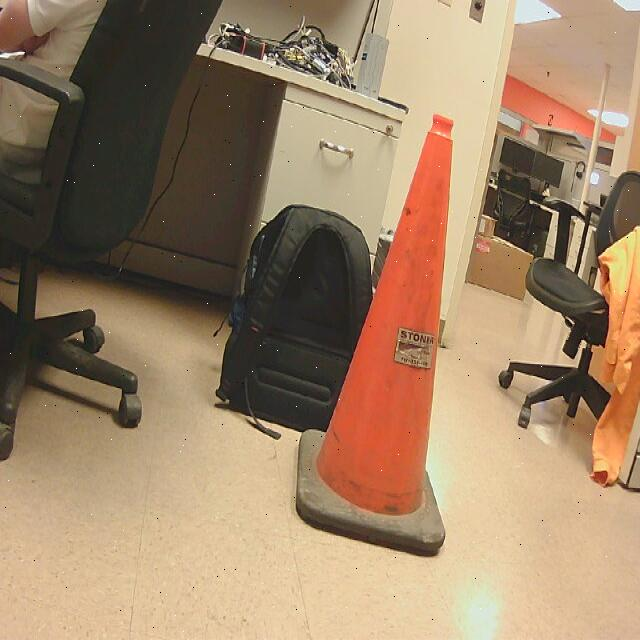traffic cone: (296, 114, 455, 561)
